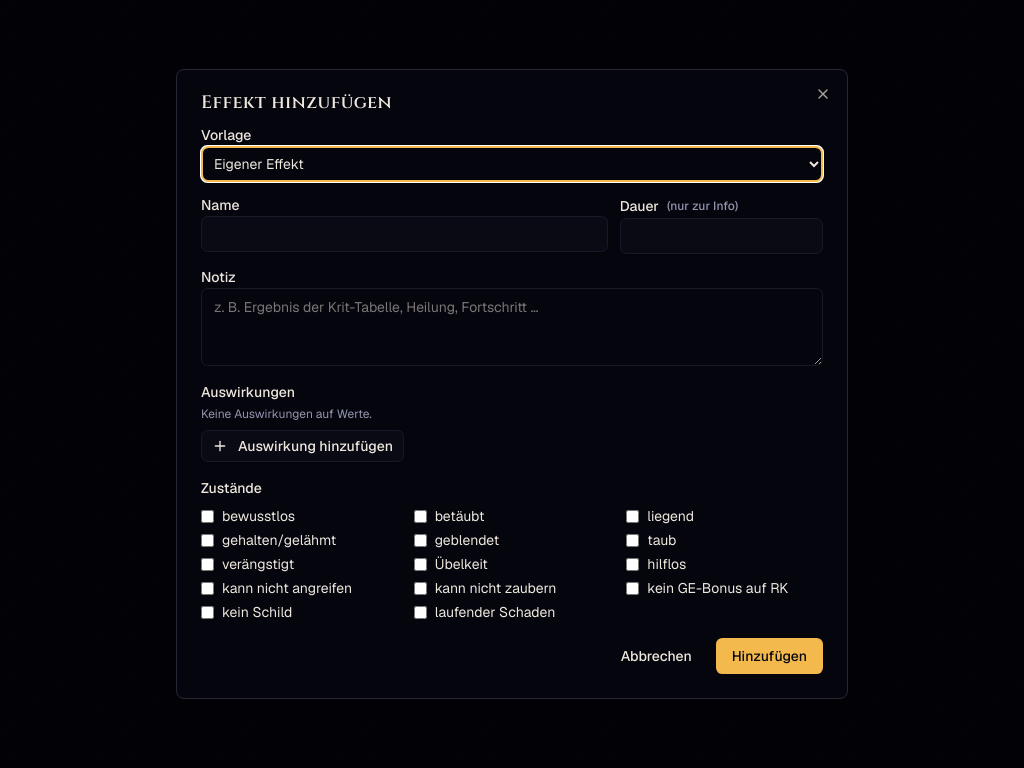
EffectDialog › requires a name
Click the button "Hinzufügen" at (769, 656), box [716,638,823,674]
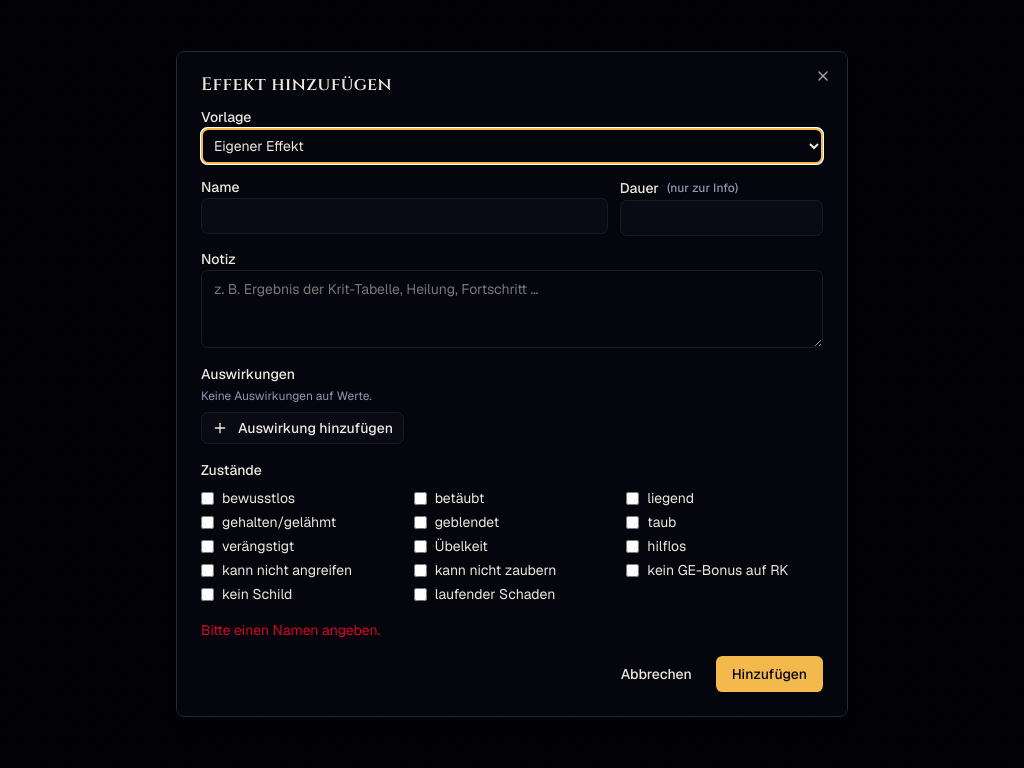
Check: the text "Bitte einen Namen angeben." is shown, box [201,621,380,639]
